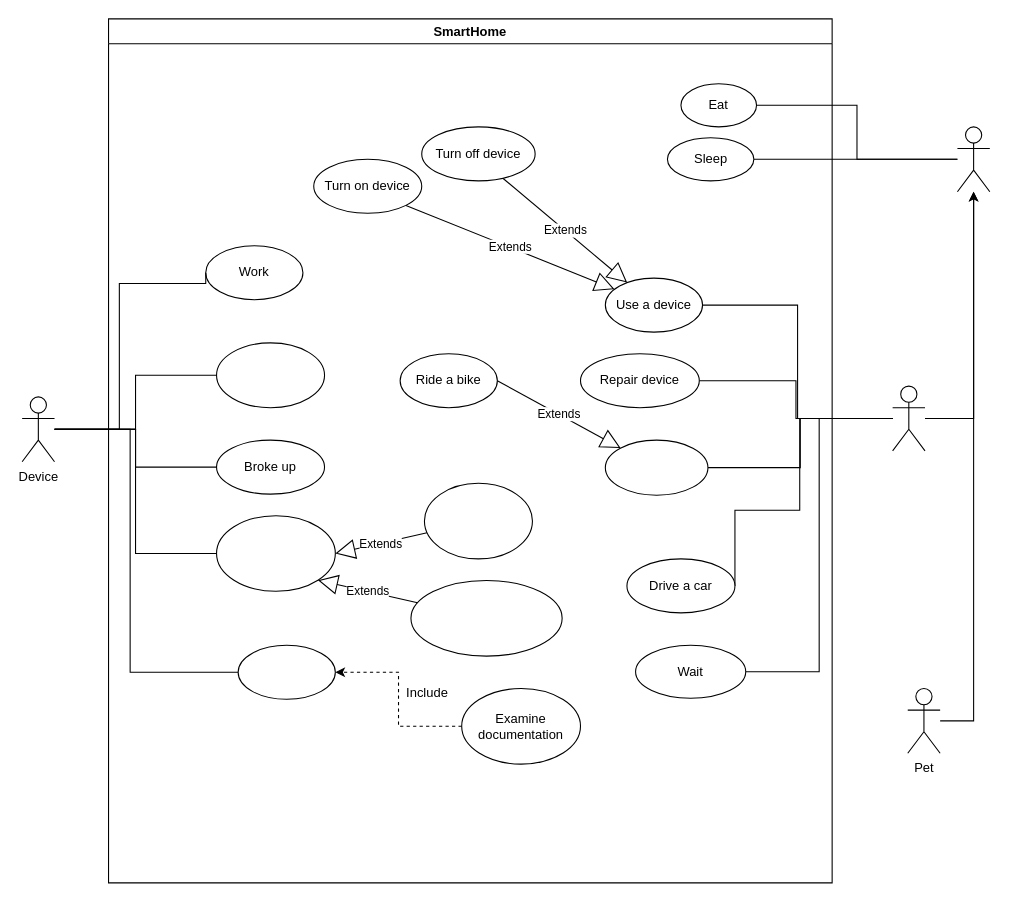
Some shapes in this 1035 by 902 pixel diagram are drawn without their labels. Each missing label, with the centre of its shape:
"Do sport" goes at (x=656, y=467).
"Generate documentation" goes at (x=270, y=375).
"Living creature" goes at (x=973, y=159).
"Person" goes at (x=908, y=418).
"React to external events" goes at (x=275, y=553).
"React to person's behavior" goes at (x=486, y=617).
"React to the weather" goes at (x=477, y=520).
"Self-repair" goes at (x=286, y=671).
